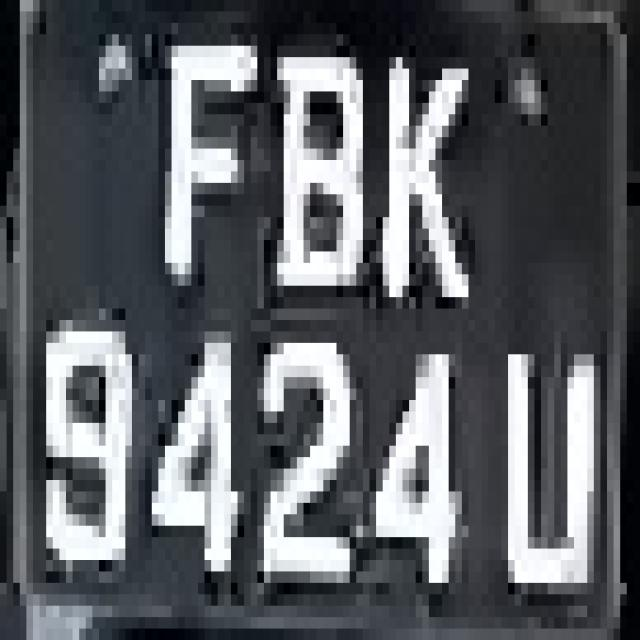2: (231, 332, 376, 594)
4: (132, 308, 257, 583), (356, 343, 482, 606)
9: (33, 309, 145, 594)
B: (264, 23, 363, 308)
F: (152, 0, 257, 286)
K: (363, 34, 468, 320)
U: (482, 331, 614, 606)
